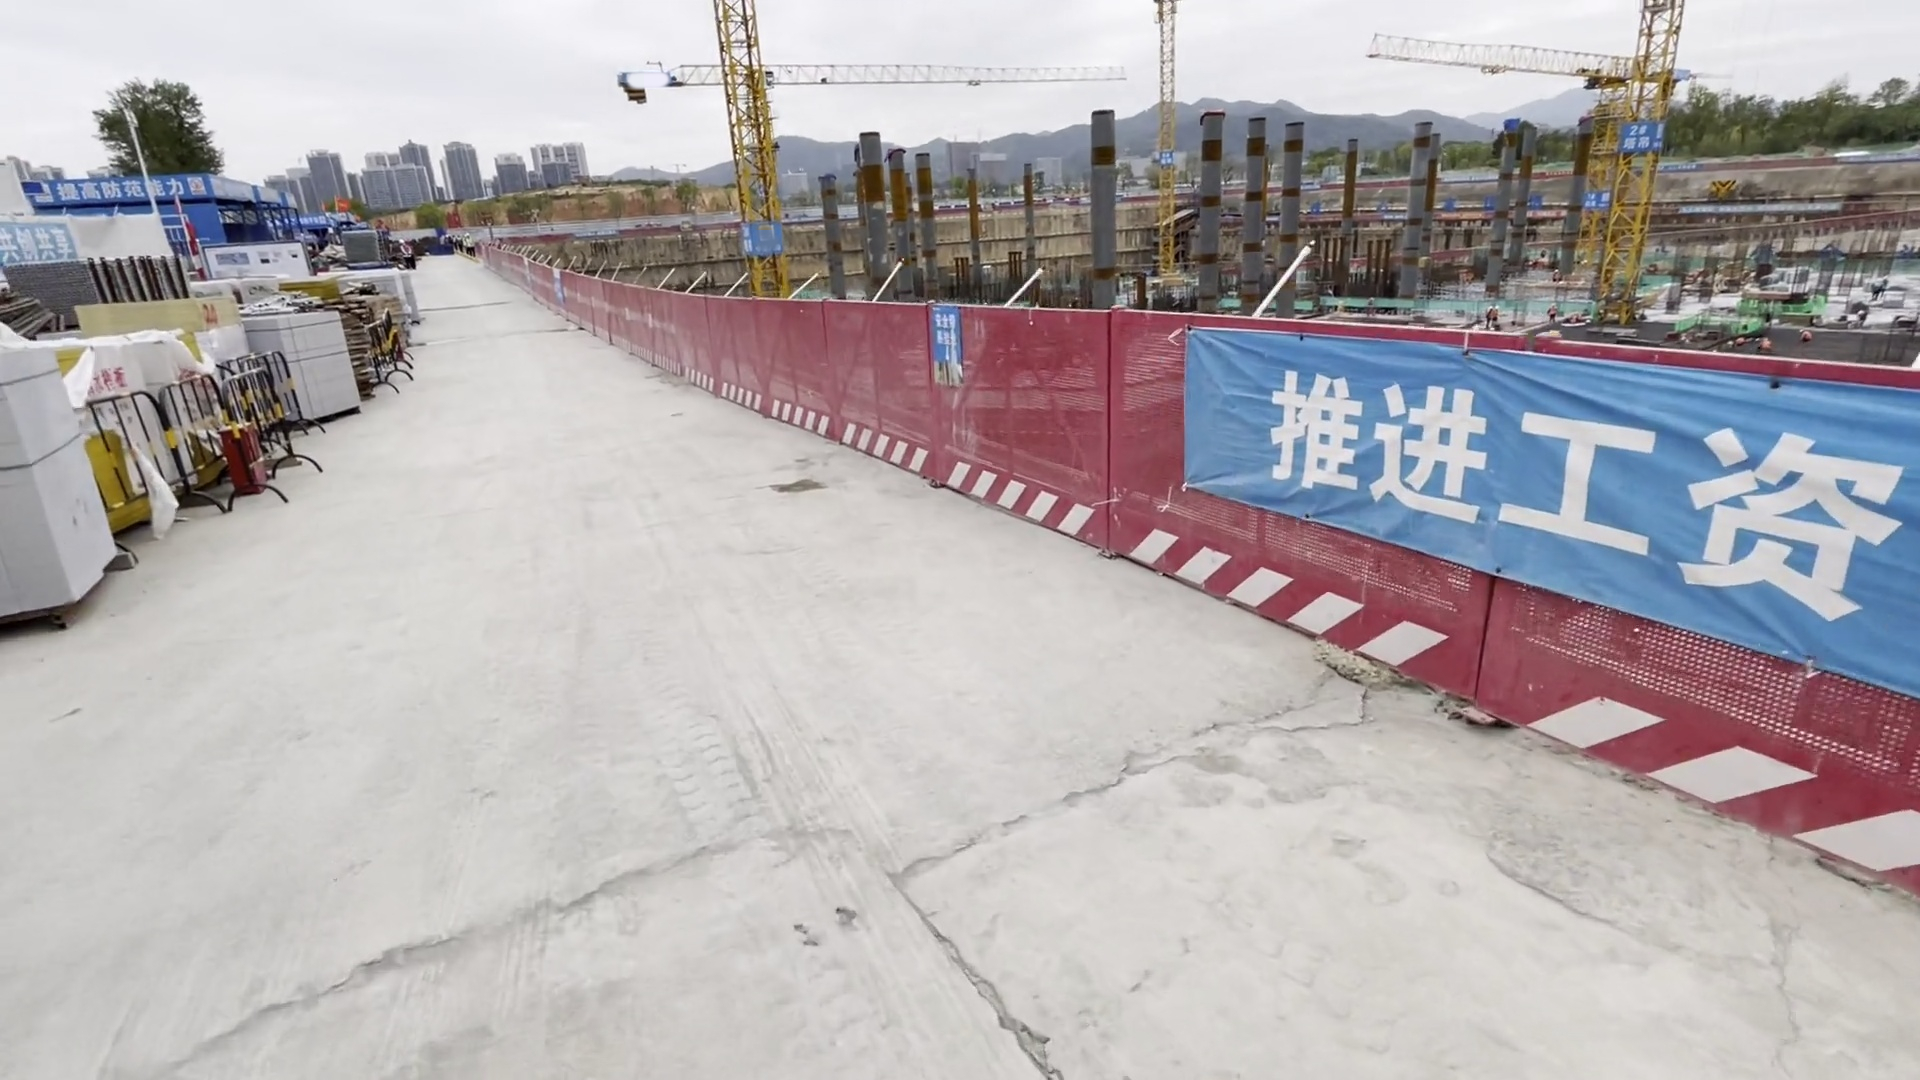brick: (1, 342, 135, 628), (247, 316, 355, 419)
fence: (479, 227, 1197, 616)
slogan: (1196, 345, 1920, 626), (46, 173, 211, 200)
